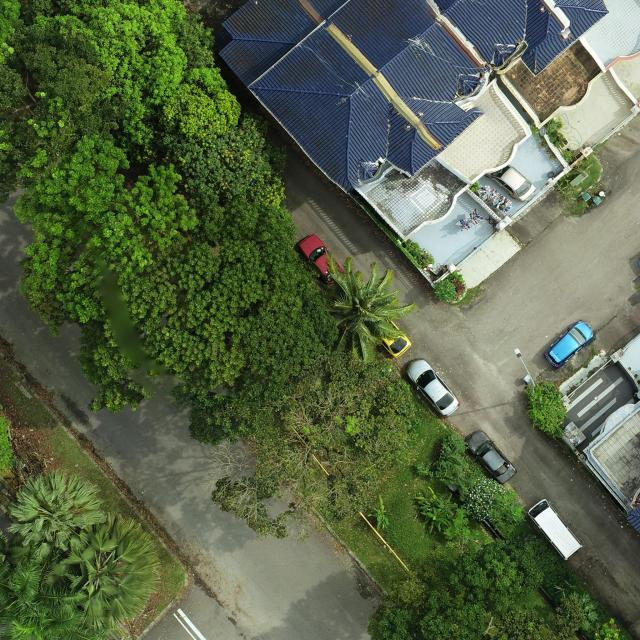Tree: (78, 192, 323, 422), (200, 348, 415, 546), (13, 130, 203, 325), (31, 0, 244, 146), (0, 23, 128, 208), (367, 537, 586, 640), (40, 508, 162, 632), (158, 110, 288, 202), (324, 250, 418, 364), (6, 468, 107, 563), (525, 382, 567, 438), (462, 477, 508, 522), (444, 506, 481, 554), (413, 486, 458, 517), (567, 590, 599, 632), (420, 506, 451, 534), (367, 494, 389, 532)
